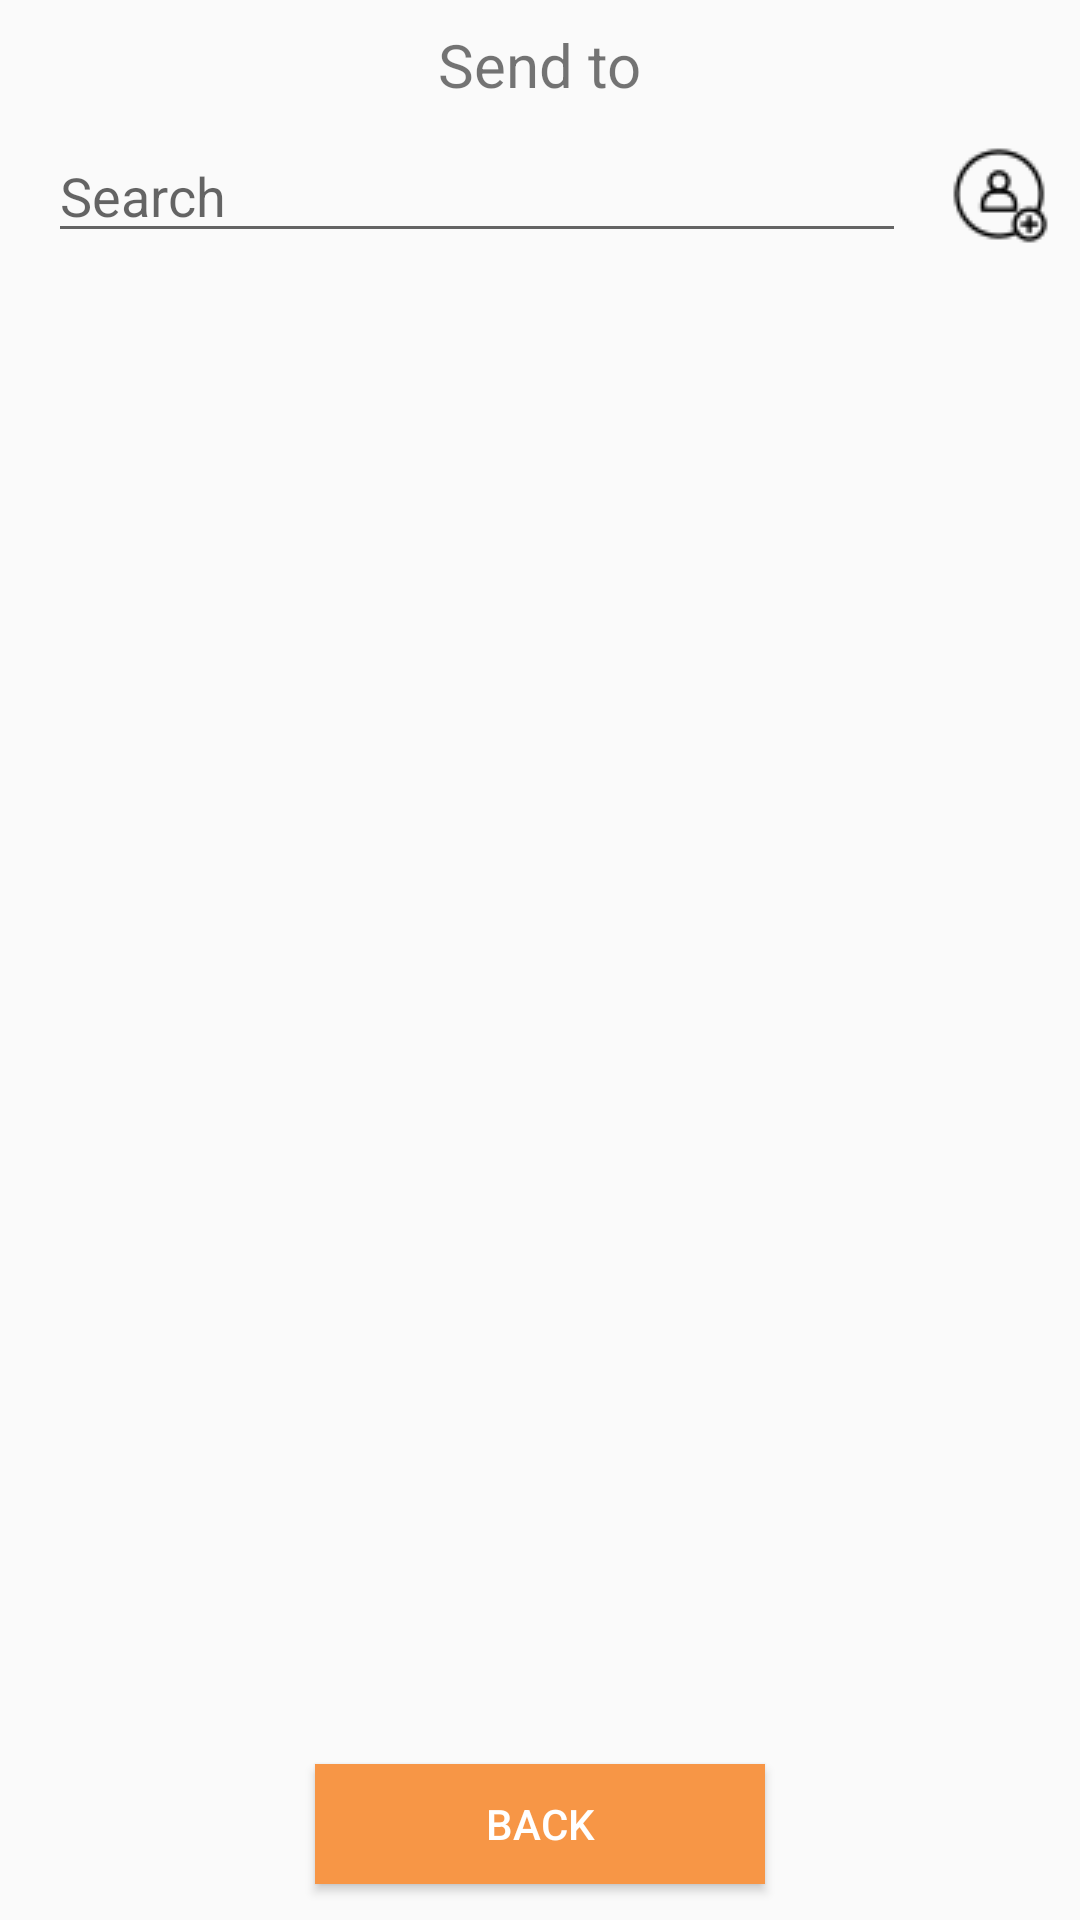

Point at icon controls on the screen. Image size 1080w x 1920h, points as [x,y].
iconaddcontact: [1000,195]
